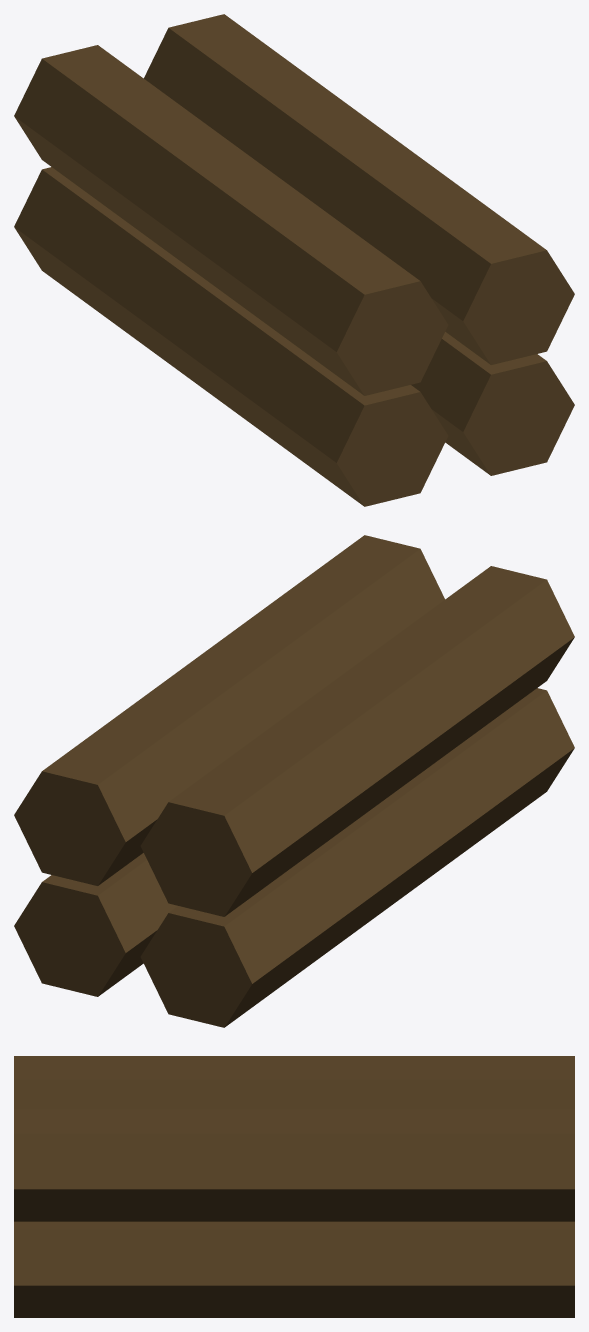
The model's file is timber_stack.glb.
3 renders of one model, top to bottom at view 1: azimuth 30°, elevation 25°; view 2: azimuth 150°, elevation 25°; view 3: azimuth 270°, elevation 25°, orthographic. The views are drawn at different scales.
Visible parts, largest first — view 1: timber_stack; view 2: timber_stack; view 3: timber_stack.
Boxes of the visible parts, <box> form: timber_stack: <box>14,14,574,506</box>; timber_stack: <box>14,535,574,1027</box>; timber_stack: <box>14,1056,574,1317</box>.
Size of the model in its own units: 0.81 by 0.6891 by 1.9.
